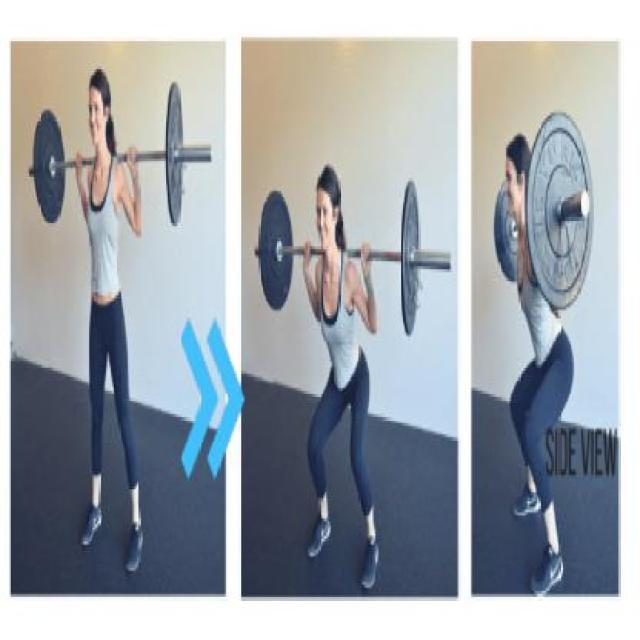barbell: (521, 98, 599, 319), (398, 170, 429, 347), (163, 77, 194, 245)
